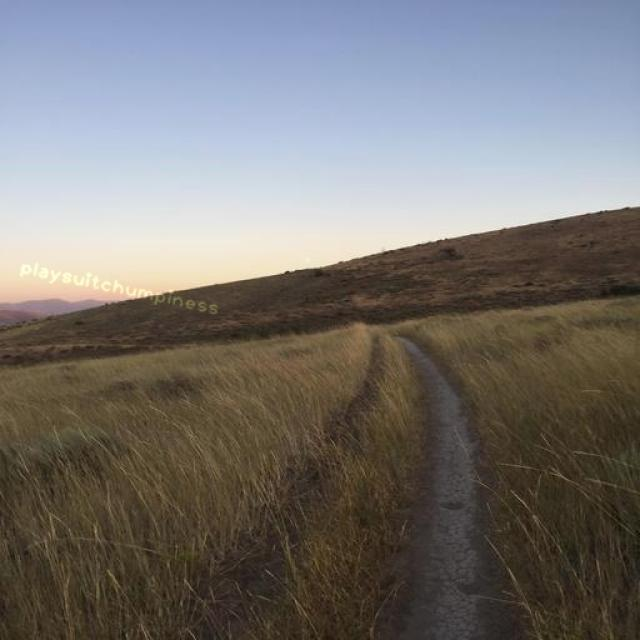watermark: (14, 259, 229, 317)
